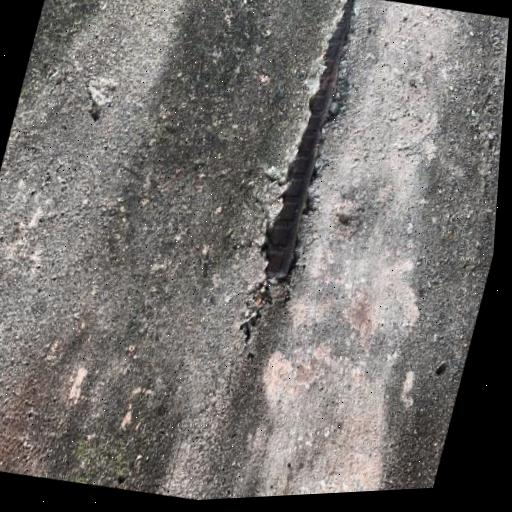exposed_rebar: (266, 0, 354, 280)
